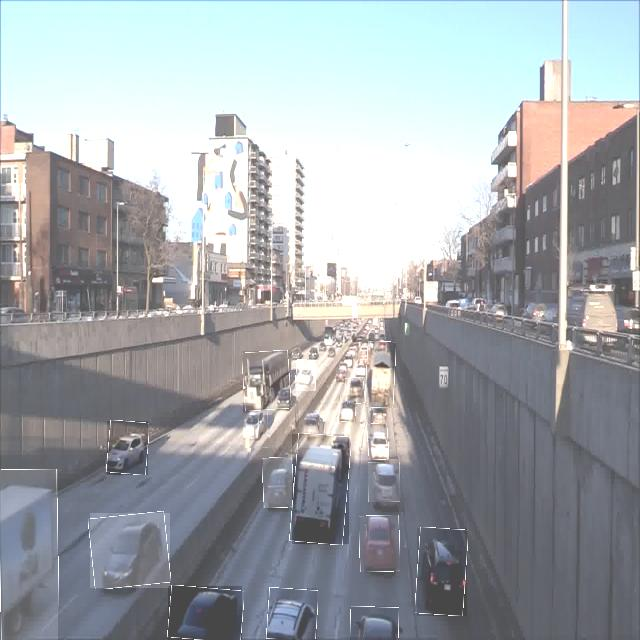Car: (90, 513, 170, 588), (417, 528, 467, 616), (168, 586, 242, 640), (267, 588, 317, 640), (360, 516, 400, 572), (107, 421, 148, 475), (350, 606, 399, 640), (263, 458, 293, 508), (368, 462, 400, 502), (243, 404, 270, 448), (299, 411, 325, 448), (367, 424, 389, 460), (296, 360, 316, 391), (346, 378, 364, 404), (339, 395, 356, 422)
Truck: (0, 469, 58, 640), (292, 434, 349, 544), (243, 351, 291, 411), (366, 342, 396, 408)
